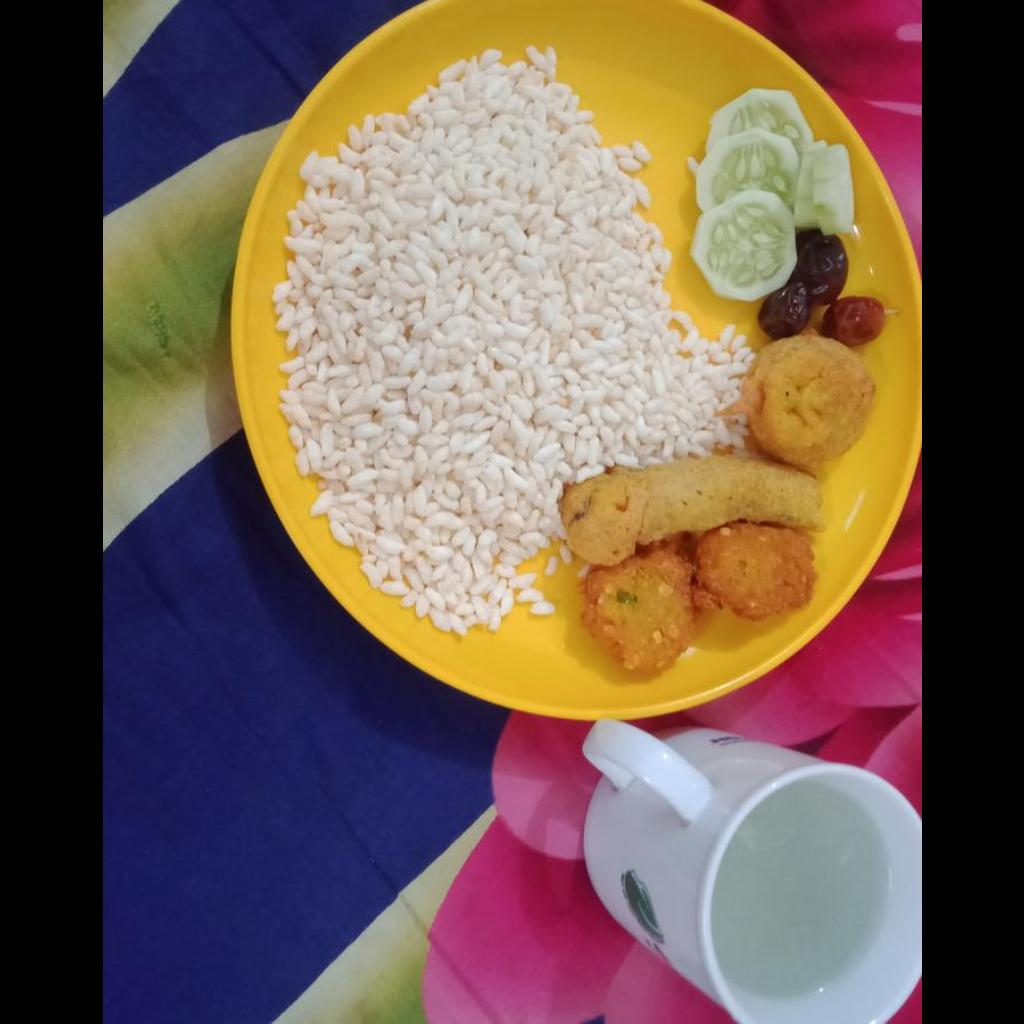beguni: (558, 461, 822, 559)
chop-alu: (753, 339, 878, 461)
cucumber: (691, 88, 847, 297)
dates: (757, 229, 884, 347)
juice: (713, 780, 888, 1002)
peyaju: (580, 523, 804, 677)
puffed-rice: (260, 47, 752, 625)
